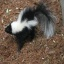skunk: (5, 4, 55, 43)
